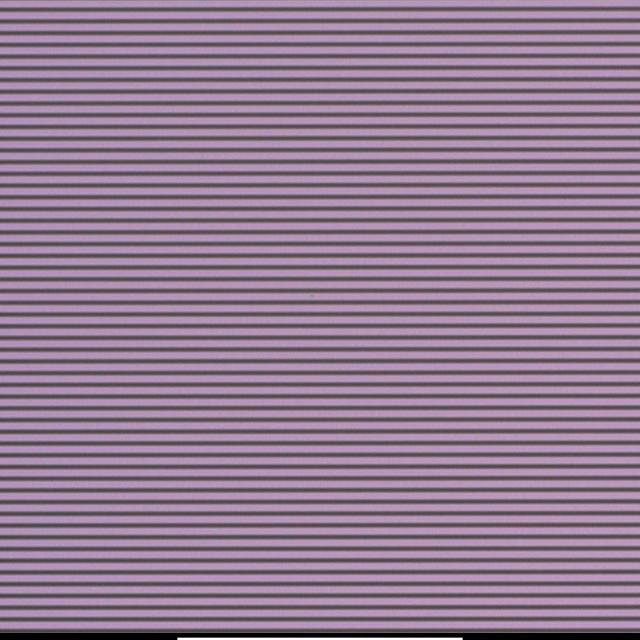nonvisual: (302, 307, 308, 317)
